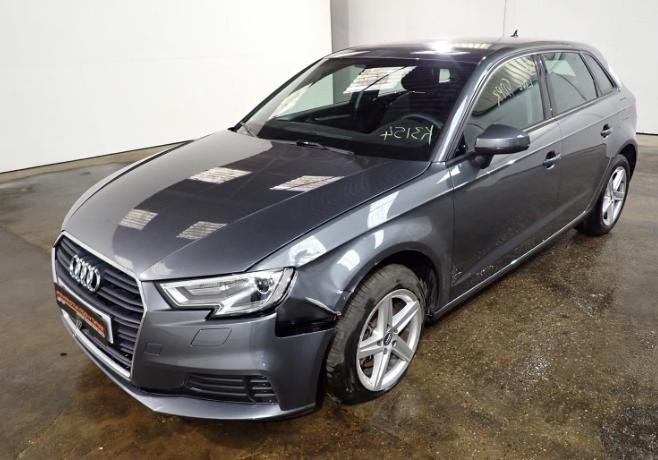Broken part: (324, 261, 426, 405), (273, 297, 338, 338), (201, 304, 280, 323)
Dent: (322, 280, 352, 300)
Scratch: (304, 295, 341, 317), (341, 275, 363, 301), (450, 261, 462, 286), (440, 270, 446, 291), (335, 288, 343, 295), (372, 261, 379, 268)
